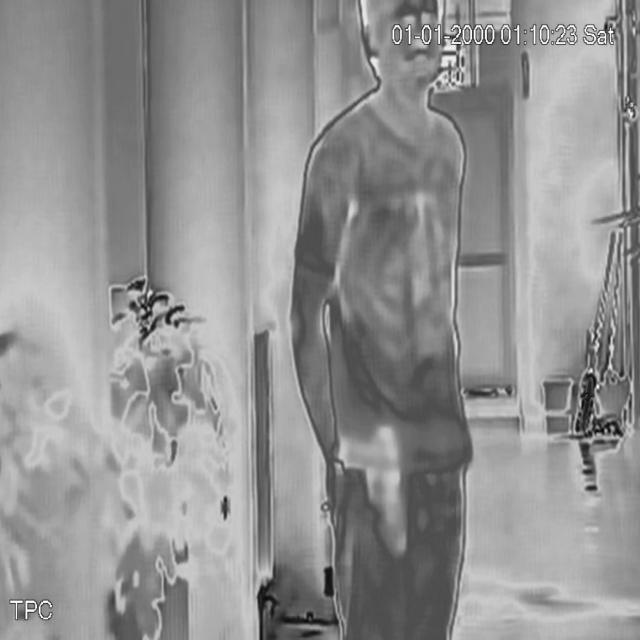Weapon: (332, 422, 427, 568)
